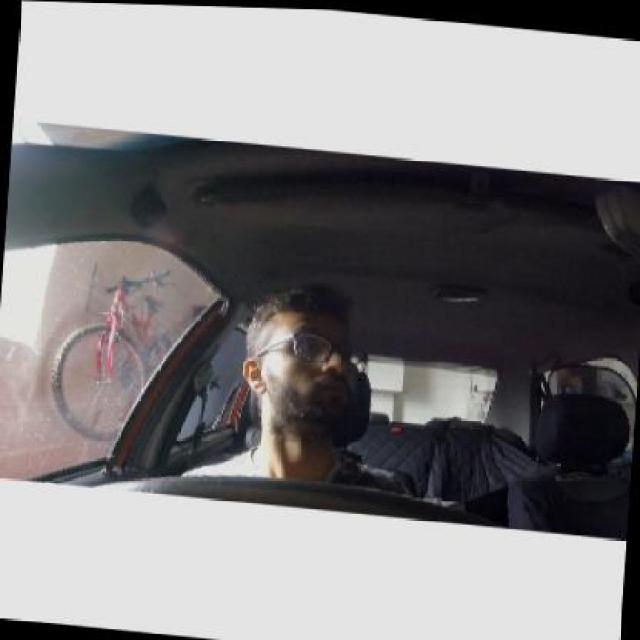LeftRight: (241, 280, 375, 446)
